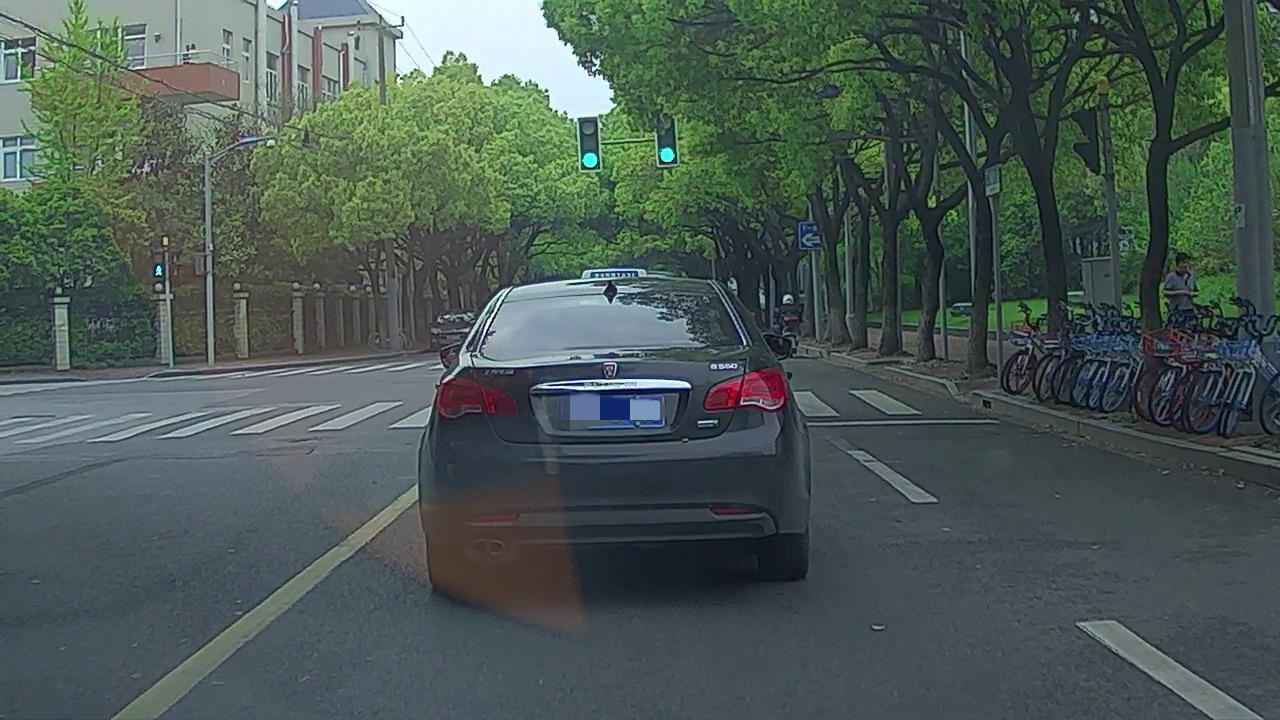traffic_light: (578, 119, 599, 171), (656, 115, 677, 165)
